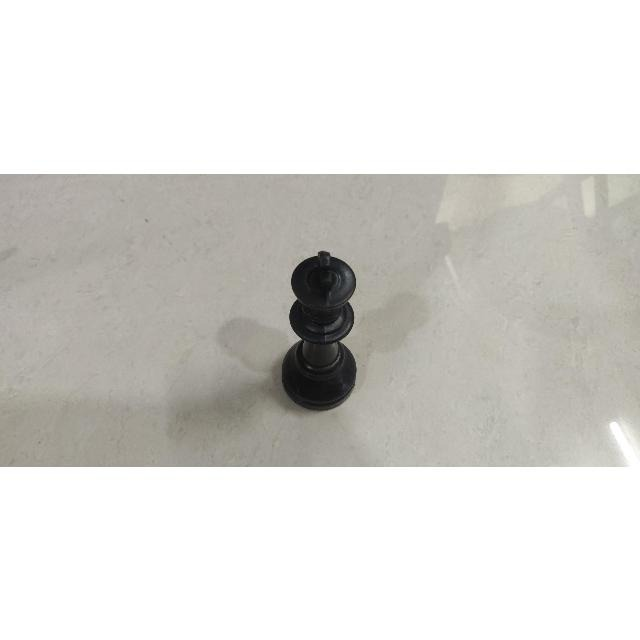black-king: (279, 247, 362, 413)
